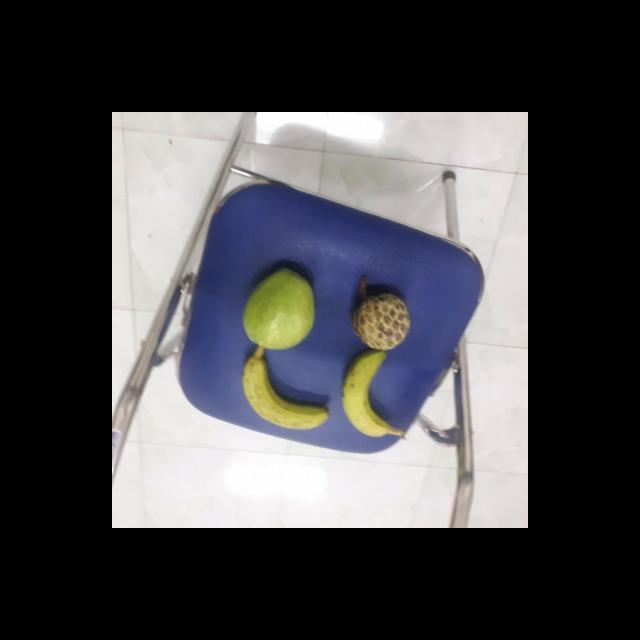Sakya fruit: (349, 289, 411, 350)
banana: (237, 350, 330, 430), (338, 349, 402, 438)
guava: (238, 268, 316, 350)
